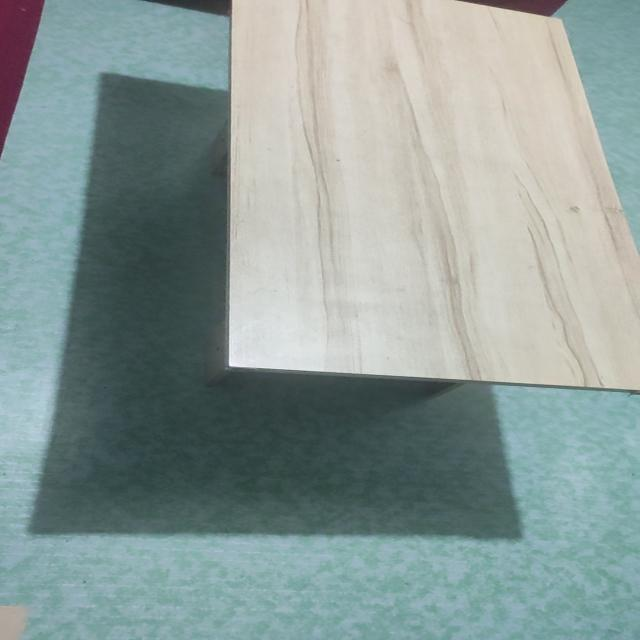table: (208, 0, 640, 415)
